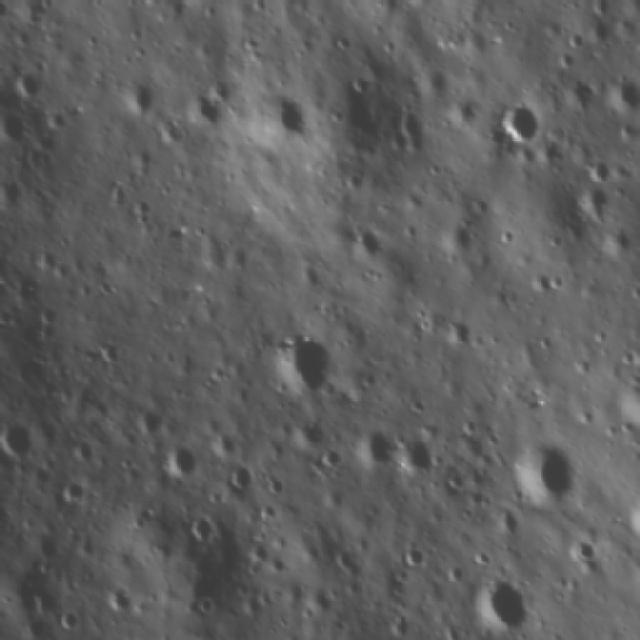crater: (262, 319, 340, 407), (503, 432, 583, 512), (460, 557, 538, 629), (244, 83, 310, 155), (484, 89, 551, 154), (155, 435, 207, 487), (354, 417, 400, 475), (395, 429, 440, 482), (113, 67, 159, 116), (348, 216, 392, 266), (186, 80, 229, 131), (603, 68, 640, 122), (293, 412, 336, 458), (98, 578, 144, 620), (181, 502, 222, 549), (0, 413, 38, 462), (11, 66, 54, 106), (0, 99, 35, 145), (221, 458, 259, 494), (395, 540, 431, 578), (568, 534, 602, 568), (584, 152, 616, 186), (0, 179, 8, 226)
